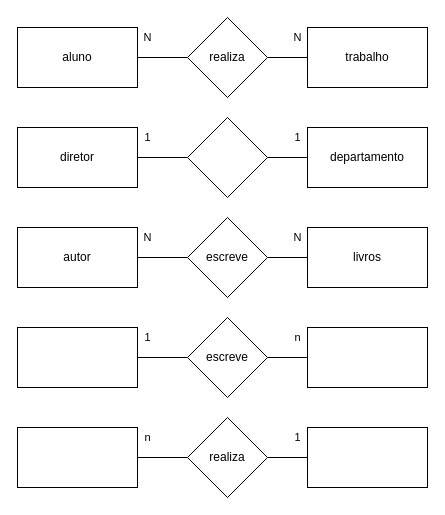
This 445x515 diagram has some shape labels left out. Each missing label, with the box of its shape:
cliente: (16, 426, 138, 488)
direge: (186, 116, 268, 198)
encomenda: (306, 426, 428, 488)
equipe: (306, 326, 428, 388)
jogadores: (16, 326, 138, 388)
